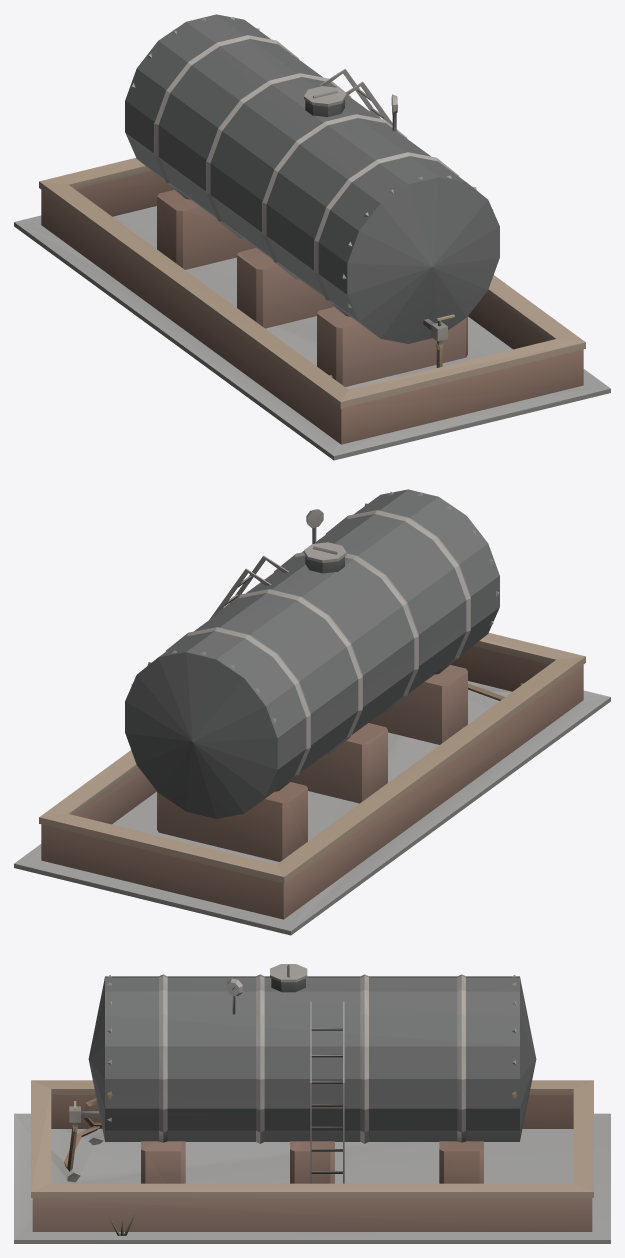
The model's file is fueltank.glb.
3 views of the same model, one above another, from view 1: azimuth 30°, elevation 25°; view 2: azimuth 150°, elevation 25°; view 3: azimuth 270°, elevation 25° (orthographic). The views are drawn at different scales.
Parts seen in each view (by area): view 1: fueltank; view 2: fueltank; view 3: fueltank.
Part boxes in pixels (bbox=[...]): fueltank: bbox=[14, 14, 610, 460]; fueltank: bbox=[14, 489, 610, 935]; fueltank: bbox=[14, 964, 610, 1243].
Bounding box in the file's own units: 4.8 × 3.89 × 9.6.
